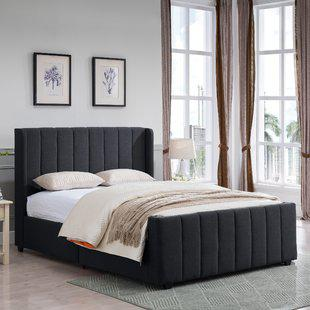bed: (10, 119, 300, 295)
